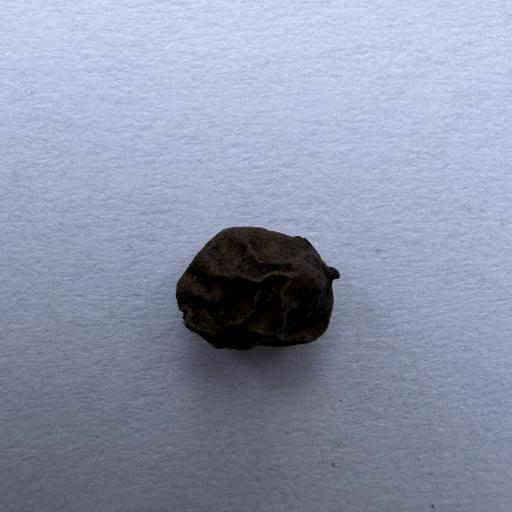Black_pepper: (142, 174, 383, 384)
